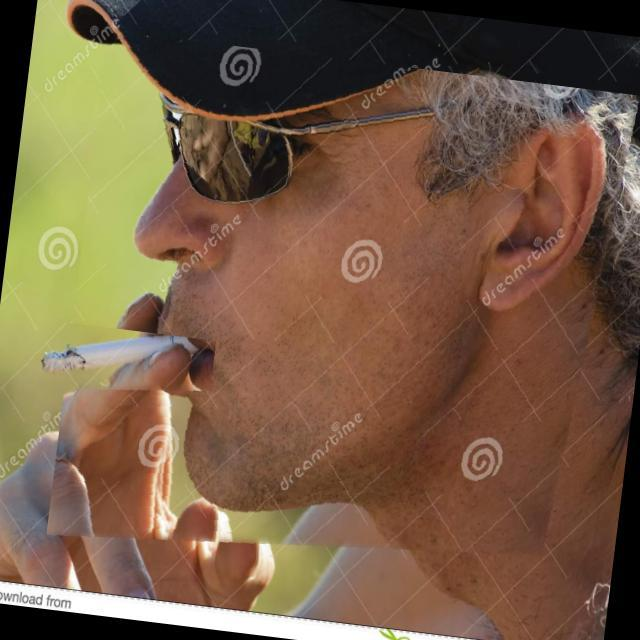cigarette: (25, 318, 216, 411)
